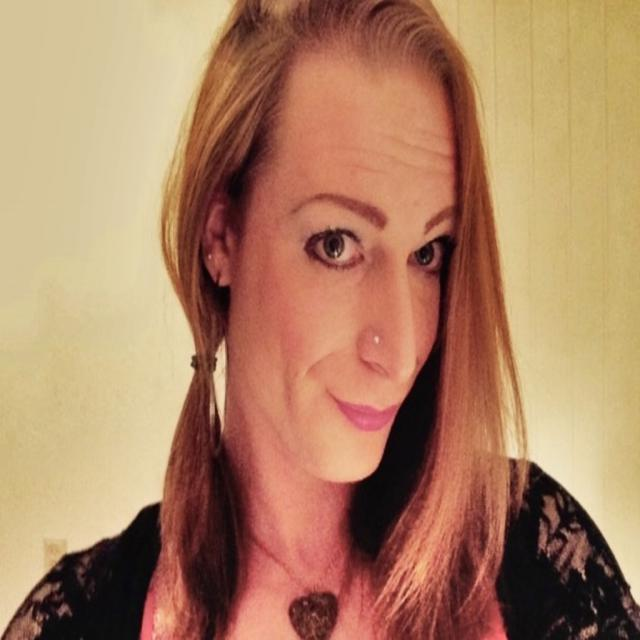closed-mouth: (325, 383, 415, 442)
